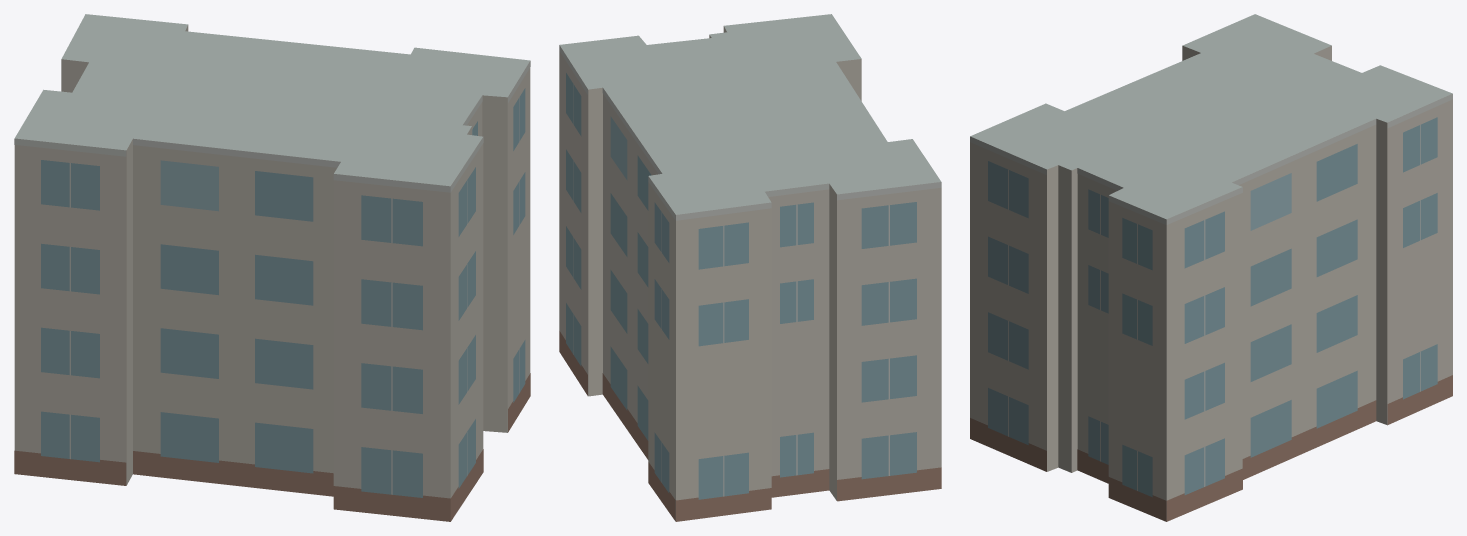
Rendered from survey-upis-32755655.glb.
3 renders of one model, left to right at view 1: azimuth 30°, elevation 25°; view 2: azimuth 150°, elevation 25°; view 3: azimuth 270°, elevation 25°, orthographic. The views are drawn at different scales.
Parts seen in each view (by area): view 1: survey-upis-32755655.tmp; view 2: survey-upis-32755655.tmp; view 3: survey-upis-32755655.tmp.
Boxes of the visible parts, bbox=[...] form: survey-upis-32755655.tmp: bbox=[14, 14, 530, 521]; survey-upis-32755655.tmp: bbox=[559, 14, 941, 521]; survey-upis-32755655.tmp: bbox=[970, 14, 1452, 521].
Bounding box in the file's own units: 18.64 × 12.8 × 18.52.
